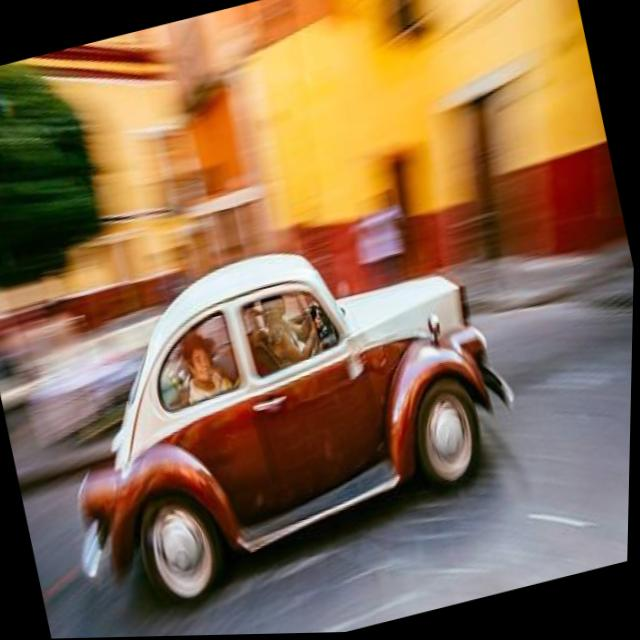vehicle: (44, 223, 519, 594)
